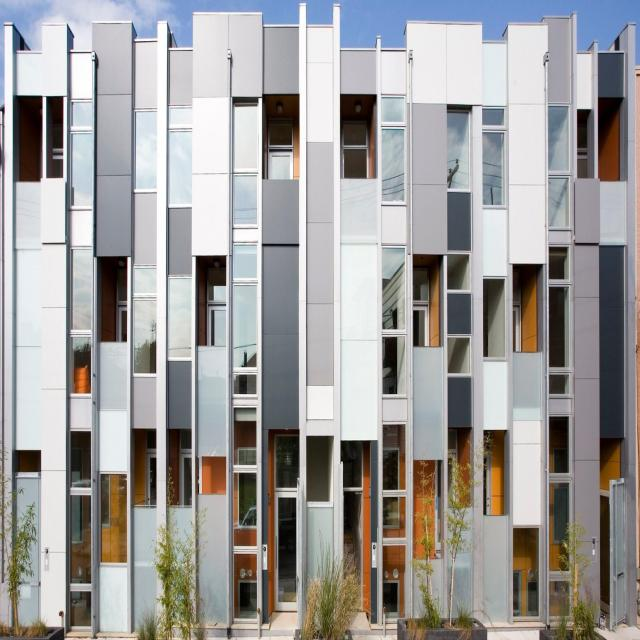door: (274, 439, 298, 615)
window: (383, 422, 405, 624), (69, 433, 90, 633), (378, 250, 404, 399), (230, 250, 256, 399), (549, 419, 567, 622), (232, 410, 257, 546), (231, 100, 258, 224), (71, 249, 91, 395), (548, 256, 568, 396), (547, 105, 568, 231), (99, 468, 127, 560), (68, 104, 91, 212), (513, 526, 540, 618), (131, 274, 154, 379), (380, 100, 403, 203), (481, 112, 503, 211), (483, 278, 508, 360), (167, 278, 189, 364), (166, 132, 189, 208), (132, 116, 154, 194), (445, 117, 467, 193), (232, 554, 257, 618), (209, 269, 228, 350), (340, 122, 366, 180), (414, 270, 430, 351), (270, 128, 291, 180), (445, 254, 469, 294), (448, 338, 469, 373), (179, 458, 190, 507)
